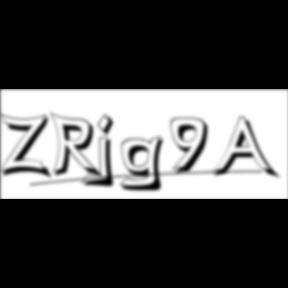9: (170, 117, 216, 177)
A: (212, 116, 282, 182)
R: (51, 112, 108, 182)
Z: (1, 112, 55, 181)
g: (120, 134, 172, 194)
j: (94, 113, 122, 191)
